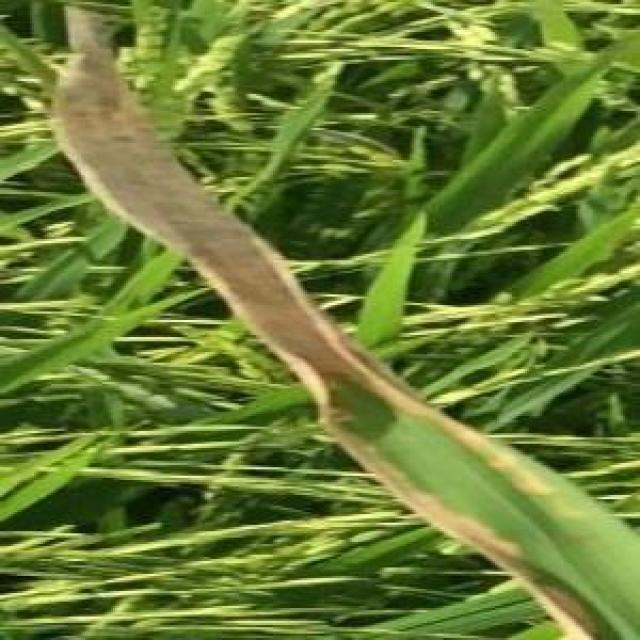Bacterial_Blight: (53, 6, 598, 640), (55, 6, 546, 492)
